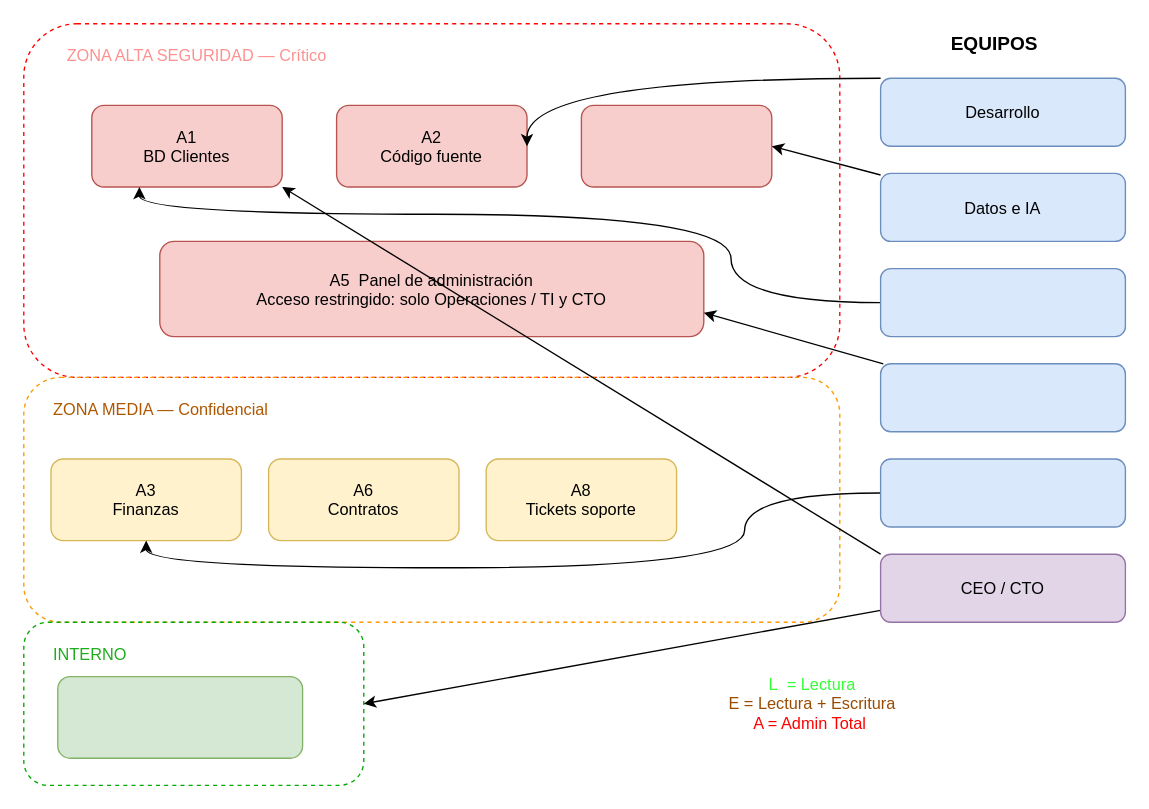
Image size: 1149x809. Some labels were removed from this diagram. Here are the shapes that lost their labels. From the top down, the box of each, then its label:
(580, 104, 772, 187): A4 E Datos IA
(879, 267, 1125, 337): Comercial / CS
(879, 362, 1125, 432): Operaciones / TI
(879, 458, 1125, 527): Legal / Finanzas
(56, 675, 303, 758): A7 Dashboard métricas
